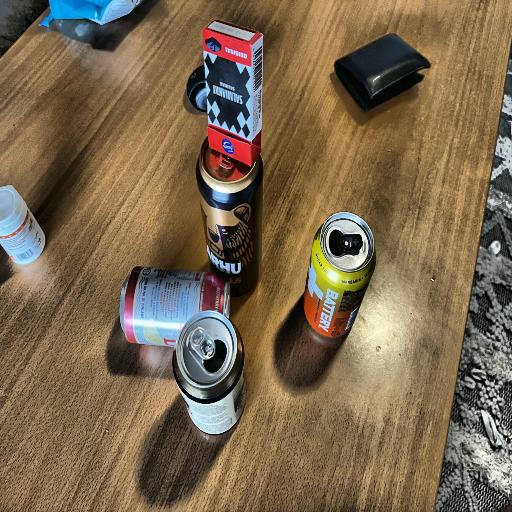karhu: (182, 142, 267, 299)
koff: (115, 261, 233, 349)
sandels: (171, 314, 255, 445)
